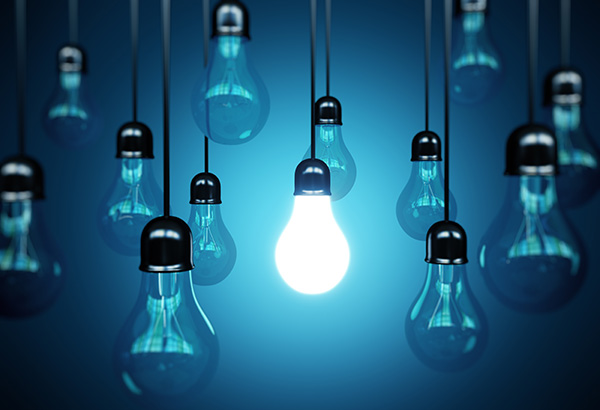Light_bulb: (476, 127, 594, 322), (106, 211, 222, 405), (395, 218, 496, 377), (263, 158, 363, 296), (192, 5, 270, 147), (97, 122, 166, 252)
